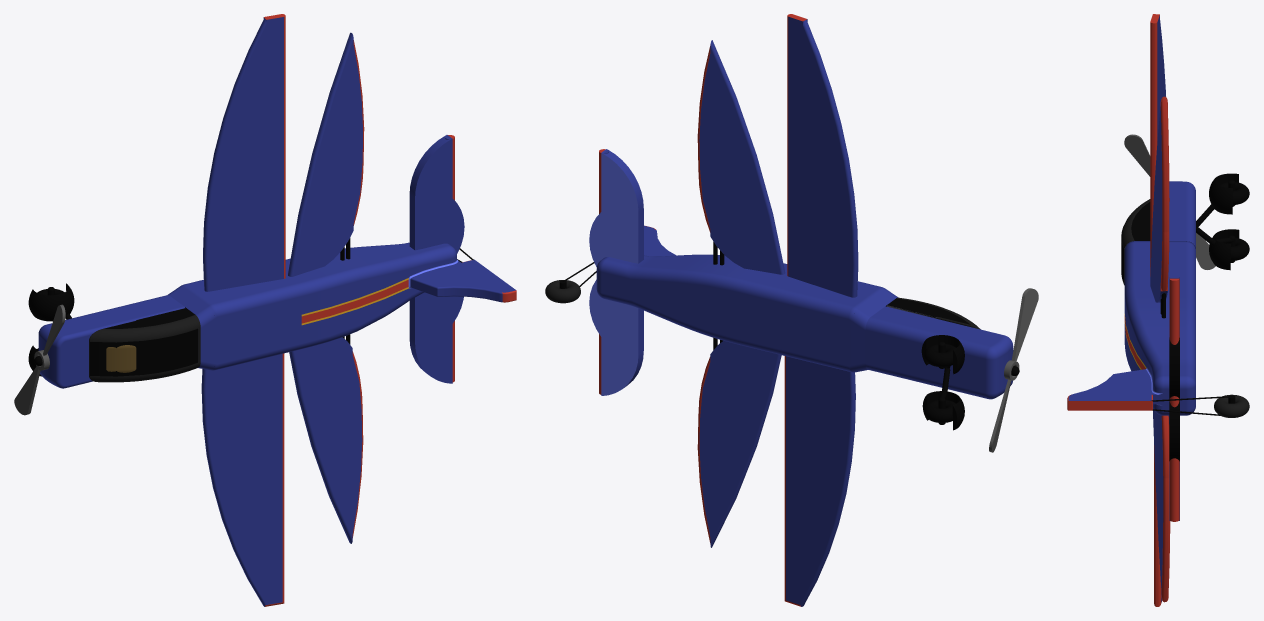
The picture shows the model from 3 angles, left to right: view 1: azimuth 30°, elevation 25°; view 2: azimuth 150°, elevation 25°; view 3: azimuth 270°, elevation 25°; orthographic projection.
Visible parts, largest first — view 1: Body2, Body48; view 2: Body2; view 3: Body2.
Boxes of the visible parts, x1,y1,x2,y2 form: Body2: [14, 14, 516, 606]; Body48: [106, 345, 136, 372]; Body2: [545, 14, 1038, 606]; Body2: [1067, 14, 1249, 606].
Bounding box in the file's own units: 355 × 450 × 127.
